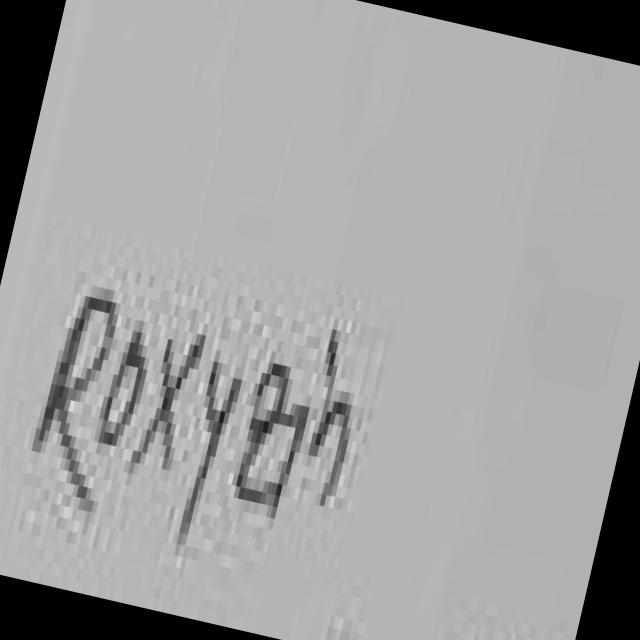R: (32, 297, 116, 509)
i: (270, 406, 308, 526)
n: (313, 330, 351, 501)
o: (101, 343, 145, 451)
x: (133, 335, 203, 469)
y: (182, 374, 239, 540)
z: (234, 364, 287, 507)
